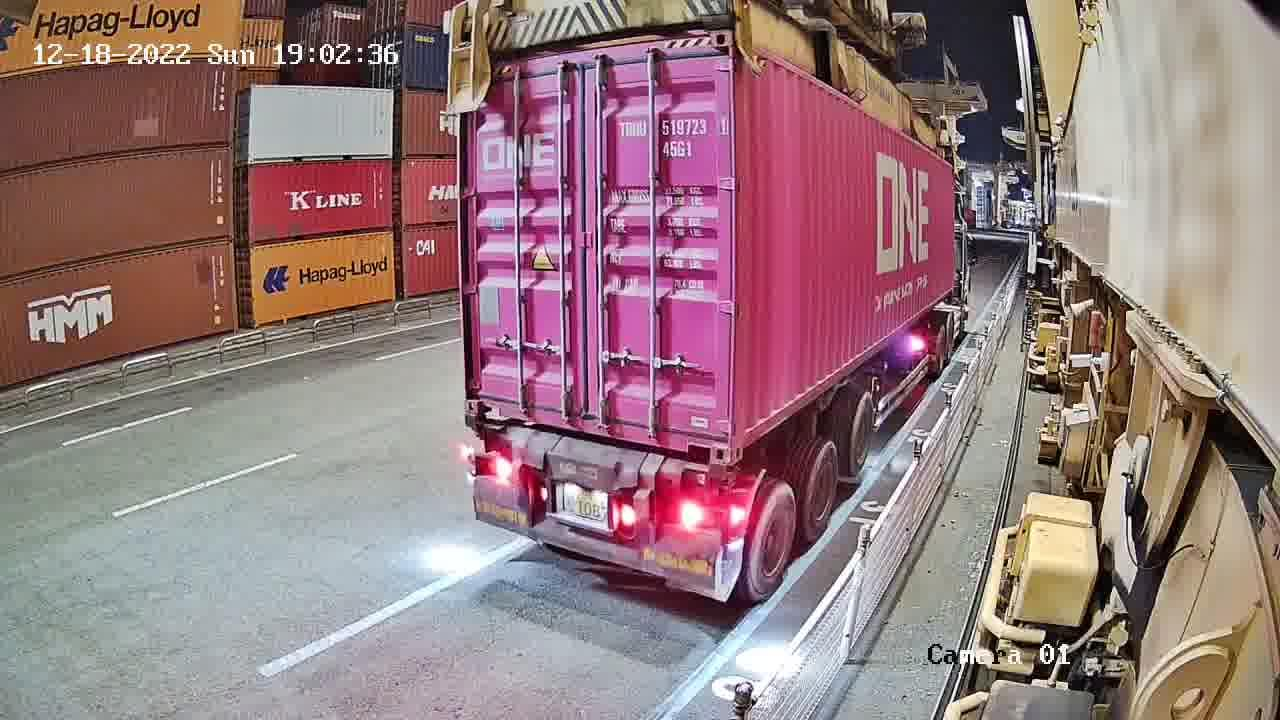Chassis: (466, 420, 733, 492)
Hole_L: (728, 399, 760, 468), (465, 381, 500, 418)
Hole_R: (685, 411, 731, 463)
Tire: (749, 484, 794, 595), (807, 445, 839, 536), (845, 395, 876, 469)
